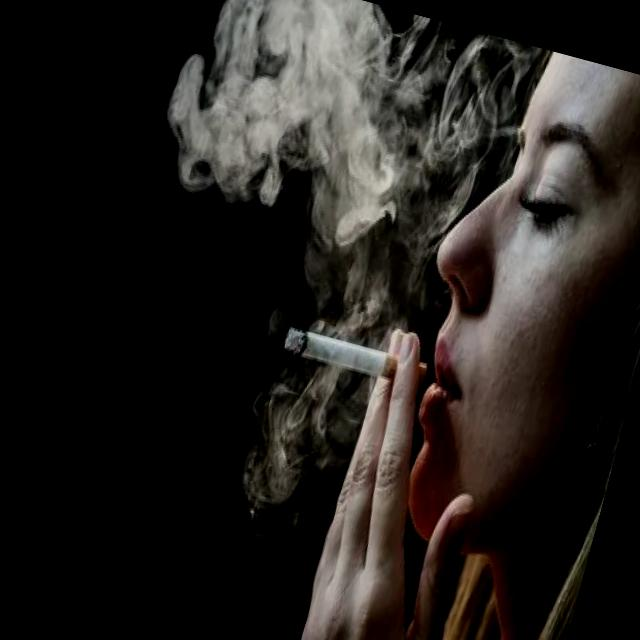smoke: (277, 319, 430, 396)
